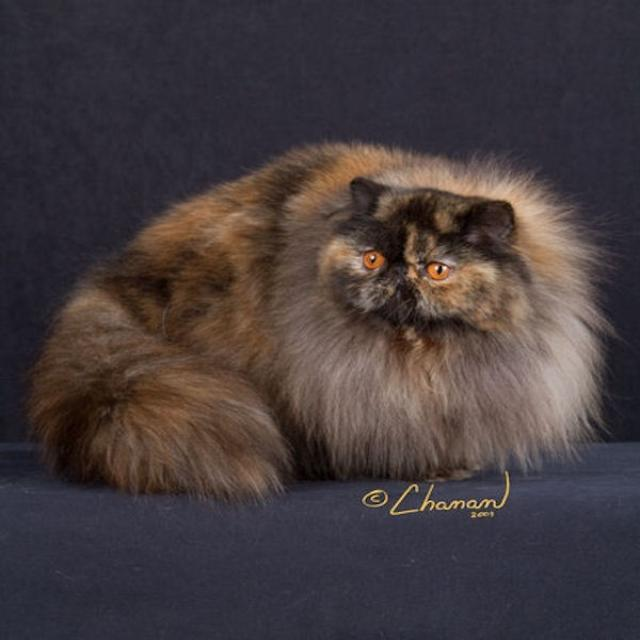Persian: (317, 166, 560, 362)
